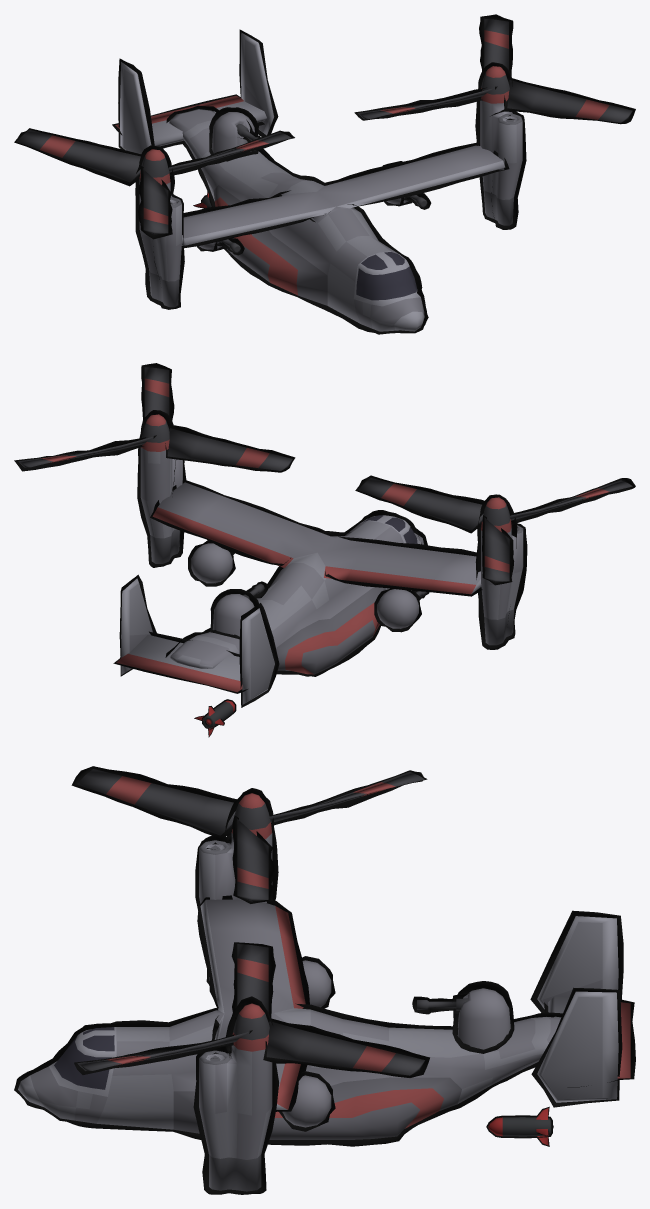
Rendered from boss1 (1).fbx.
3 views of the same model, one above another, from view 1: azimuth 30°, elevation 25°; view 2: azimuth 150°, elevation 25°; view 3: azimuth 270°, elevation 25° (orthographic). The views are drawn at different scales.
Parts seen in each view (by area): view 1: helicopteroBOSS, helice.R, helice.L, armaBOSS, armaBOSS.R, armaBOSS.L; view 2: helicopteroBOSS, helice.R, helice.L, armaBOSS.R, armaBOSS.L, armaBOSS, missel; view 3: helicopteroBOSS, helice.R, helice.L, armaBOSS, armaBOSS.L, missel, armaBOSS.R.
Boxes of the visible parts, x1,y1,x2,y2 form: helicopteroBOSS: (112,29,526,334); helice.R: (14,128,294,239); helice.L: (354,14,635,124); armaBOSS: (211,112,262,153); armaBOSS.R: (197,206,244,255); armaBOSS.L: (383,161,431,209); helicopteroBOSS: (113,410,527,707); helice.R: (355,475,635,585); helice.L: (14,363,295,472); armaBOSS.R: (374,588,429,632); armaBOSS.L: (188,540,235,586); armaBOSS: (212,581,268,636); missel: (194,699,236,737); helicopteroBOSS: (14,788,635,1194); helice.R: (71,766,427,903); helice.L: (74,942,429,1077); armaBOSS: (412,988,510,1049); armaBOSS.L: (278,1071,335,1131); missel: (486,1106,553,1146); armaBOSS.R: (302,956,335,1008).
Bounding box in the file's own units: 354 × 135 × 302.
